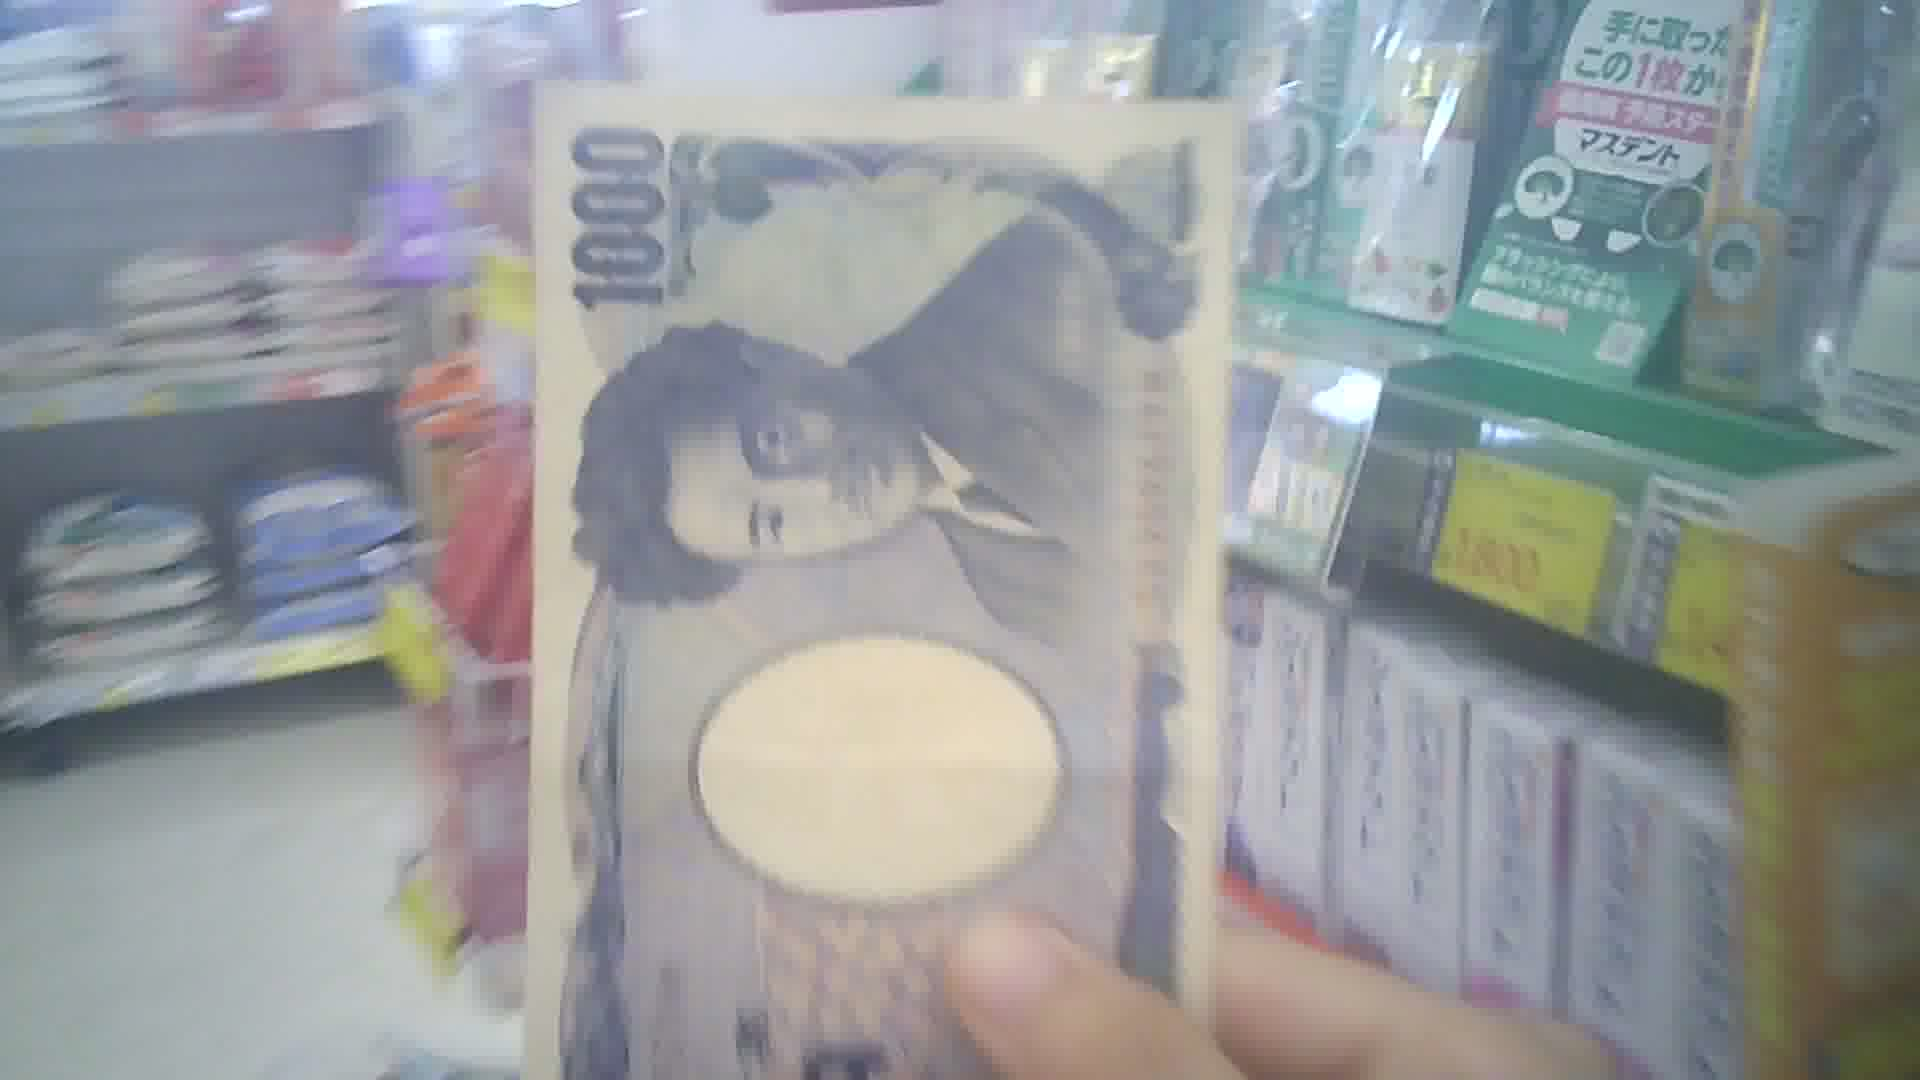1,000 Yen: (514, 65, 1237, 1079)
